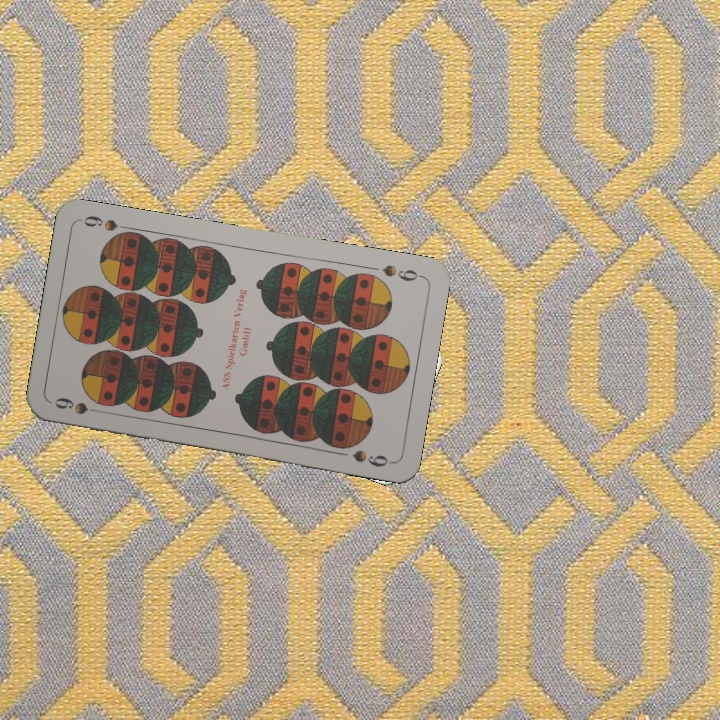S9: (51, 393, 108, 417), (378, 260, 425, 284)
